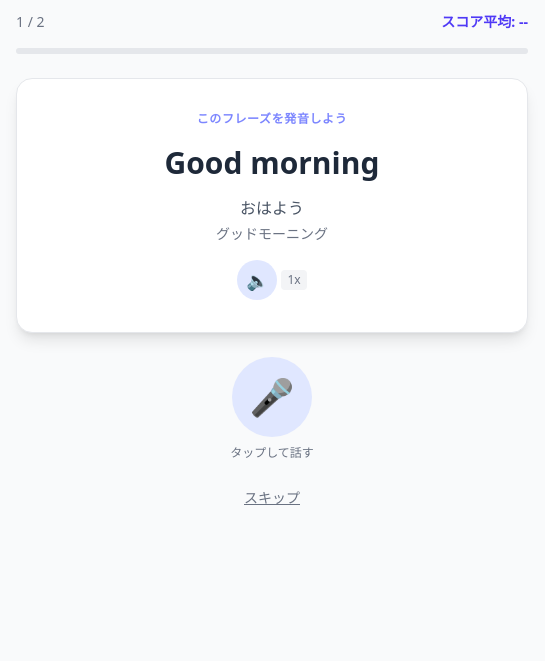
Test: PronunciationPractice › scores a perfect spoken match and highlights all words green
This screenshot has width=545, height=661.
Click the button named "録音して発音する" at coordinates (272, 397), box top-left (232, 357), bottom-right (312, 437)
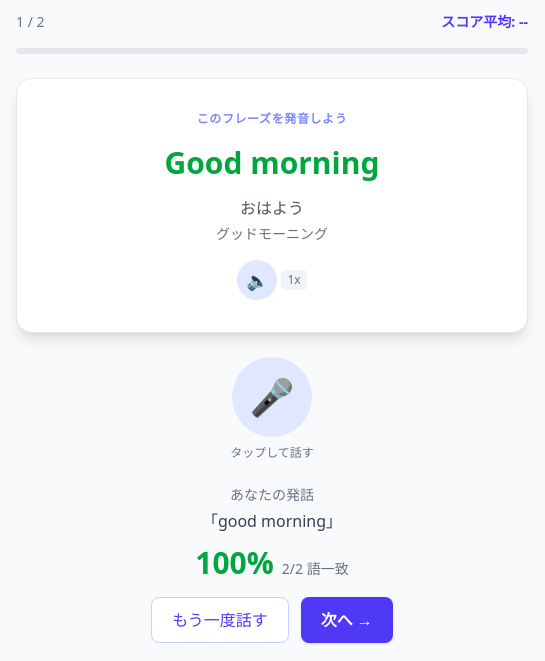
Expected: the text "100%" is shown, top-left (195, 542), bottom-right (274, 583)
Expected: the text "2/2 語一致" is shown, top-left (282, 559), bottom-right (349, 578)
Expected: the text "「good morning」" is shown, top-left (202, 510), bottom-right (342, 532)
